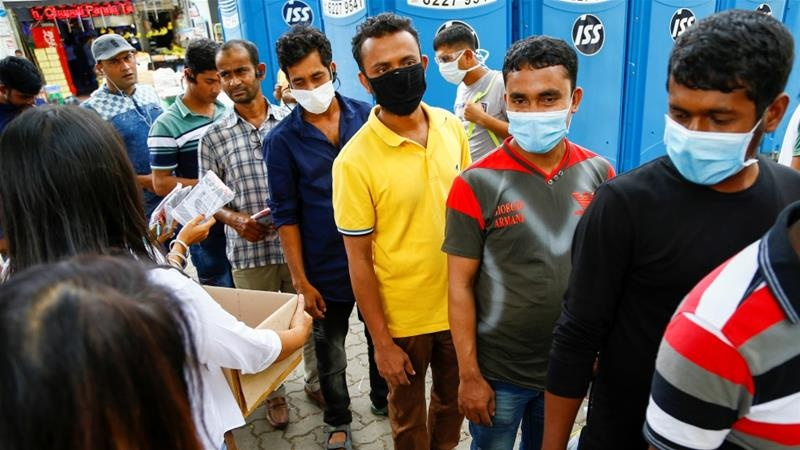with_mask: (659, 61, 776, 186), (352, 29, 434, 113), (501, 60, 575, 149), (277, 49, 340, 113)
without_mask: (88, 45, 143, 92), (214, 46, 261, 98)
